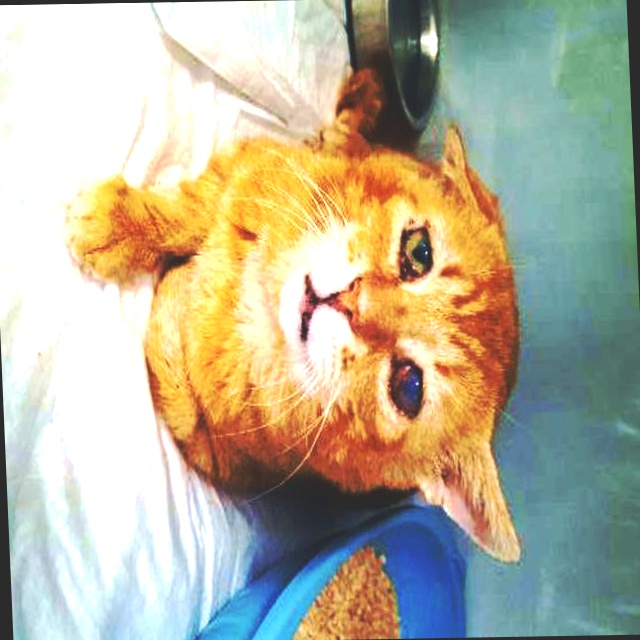eye_infection: (380, 357, 430, 417), (392, 223, 438, 285)
